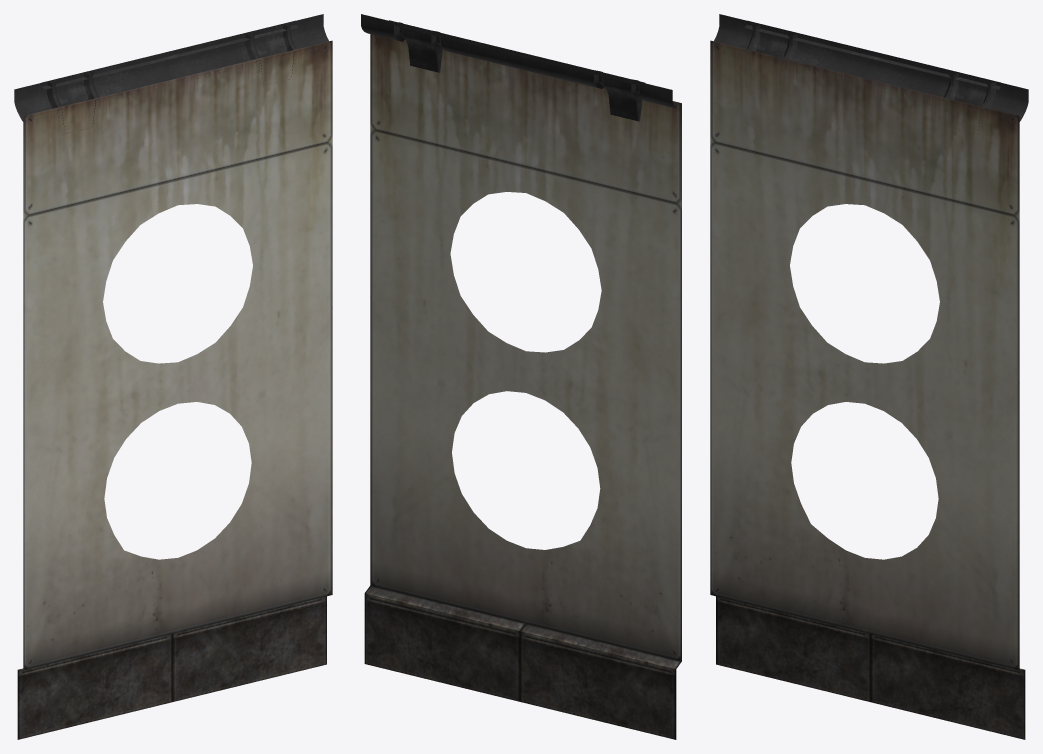
File: lab_flat_short_fan_inset.dae
3 renders of one model, left to right at view 1: azimuth 30°, elevation 25°; view 2: azimuth 150°, elevation 25°; view 3: azimuth 330°, elevation 25°, orthographic.
Parts seen in each view (by area): view 1: lab_flat_vent_inset; view 2: lab_flat_vent_inset; view 3: lab_flat_vent_inset.
Boxes of the visible parts, x1,y1,x2,y2 form: lab_flat_vent_inset: (14, 14, 332, 739); lab_flat_vent_inset: (361, 14, 681, 739); lab_flat_vent_inset: (710, 14, 1028, 739).
Bounding box in the file's own units: 2 × 4 × 0.1056.
